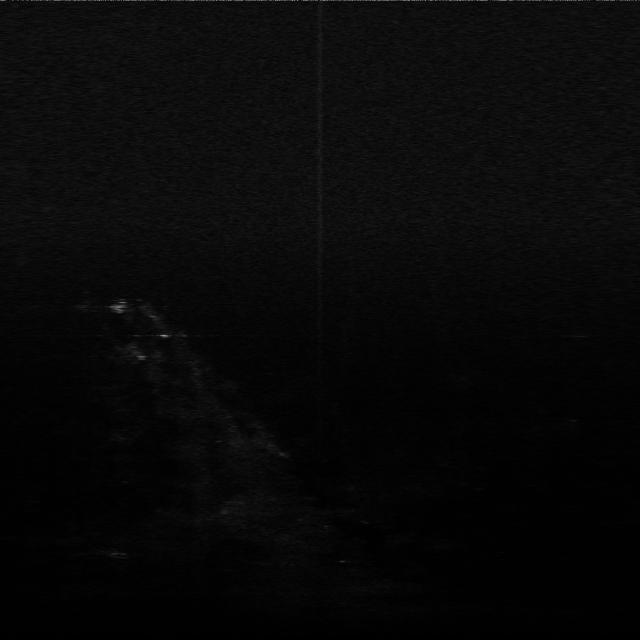rov: (108, 301, 133, 315)
